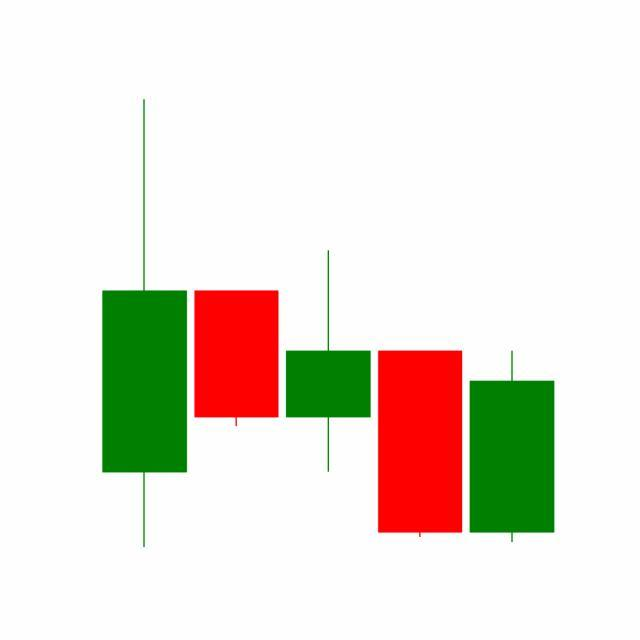Marubozu: (374, 348, 468, 540)
